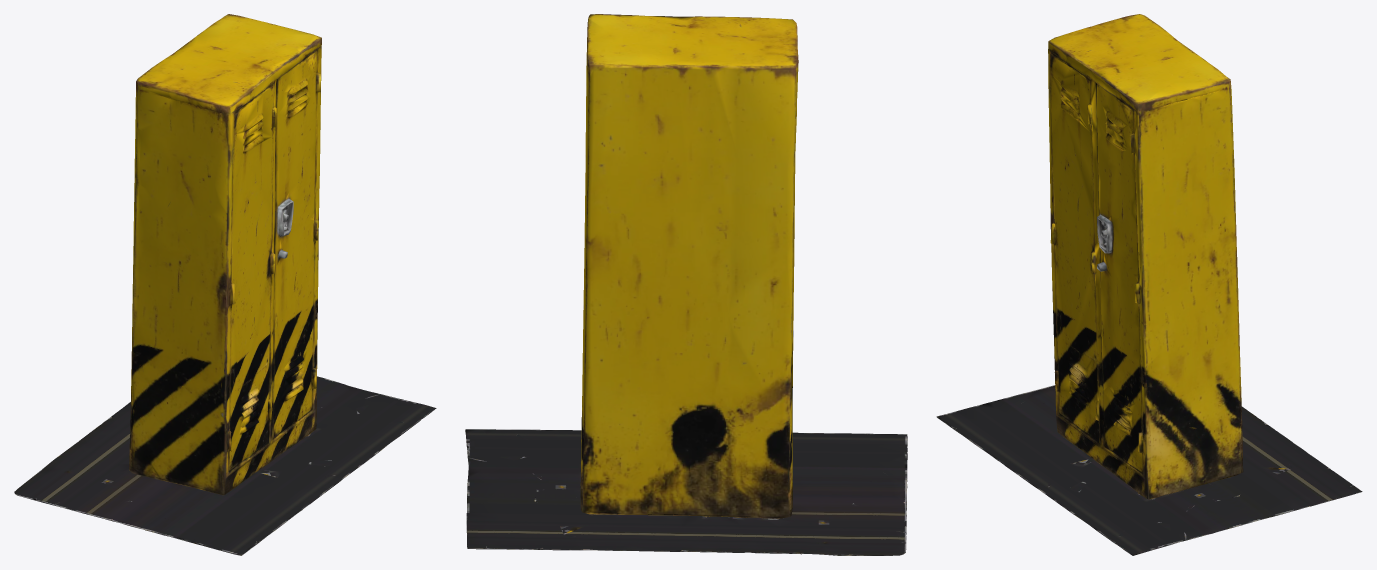
The model's file is hazmat_locker.glb.
The picture shows the model from 3 angles, left to right: view 1: azimuth 30°, elevation 25°; view 2: azimuth 150°, elevation 25°; view 3: azimuth 270°, elevation 25°; orthographic projection. The views are drawn at different scales.
Size of the model in its own units: 0.8974 by 0.8531 by 0.8167.
1 material, 1 textured.
